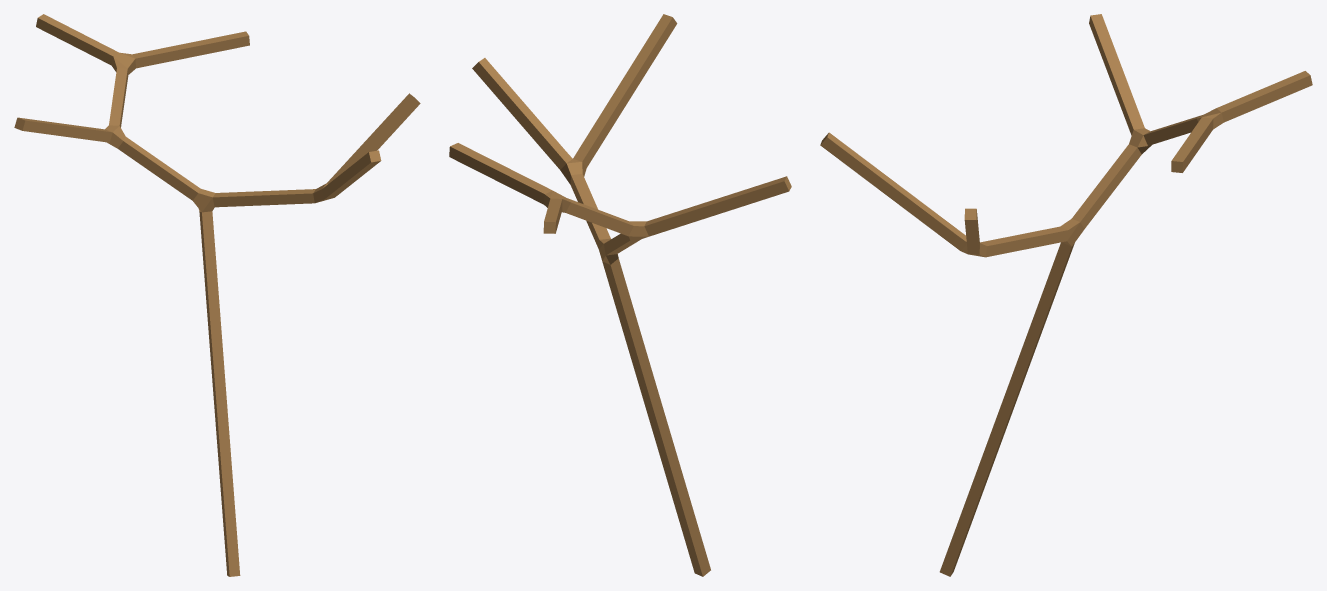
Rendered from Desert2.fbx.
3 views of the same model, side by side, from view 1: azimuth 30°, elevation 25°; view 2: azimuth 150°, elevation 25°; view 3: azimuth 270°, elevation 25° (orthographic). The views are drawn at different scales.
Parts seen in each view (by area): view 1: Cube.007; view 2: Cube.007; view 3: Cube.007.
Part boxes in pixels (bbox=[...]): Cube.007: bbox=[14, 14, 420, 576]; Cube.007: bbox=[449, 14, 791, 576]; Cube.007: bbox=[820, 14, 1312, 576].
Size of the model in its own units: 36.57 by 45.34 by 41.59.
